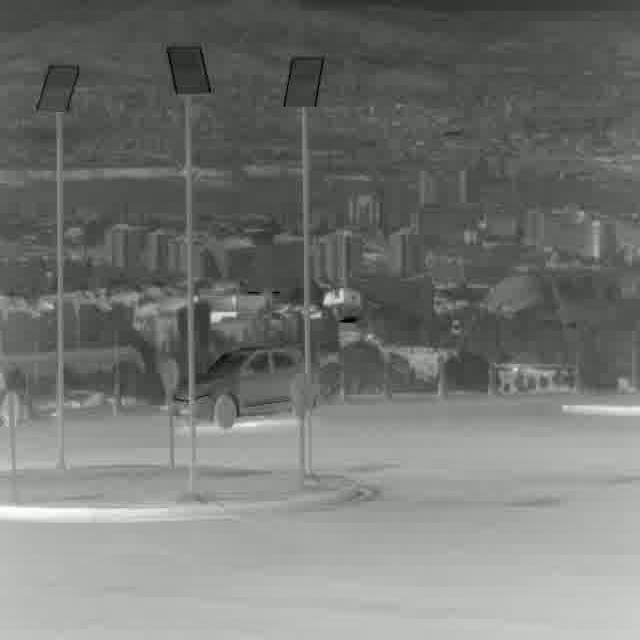Car: (174, 349, 304, 428)
